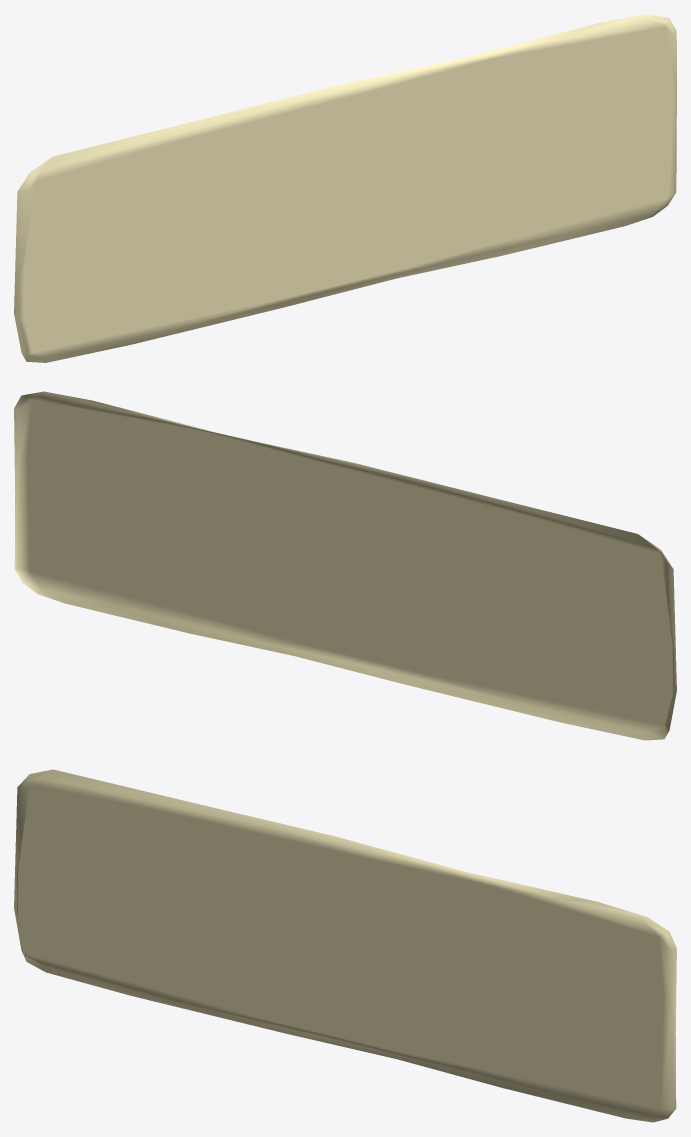
The model's file is ui_button_tab.glb.
3 views of the same model, one above another, from view 1: azimuth 30°, elevation 25°; view 2: azimuth 150°, elevation 25°; view 3: azimuth 330°, elevation 25° (orthographic).
Visible parts, largest first — view 1: Cube; view 2: Cube; view 3: Cube.
Part boxes in pixels (bbox=[...]): Cube: bbox=[14, 14, 676, 362]; Cube: bbox=[14, 391, 676, 740]; Cube: bbox=[14, 769, 676, 1122].
Bounding box in the file's own units: 2.01 × 0.6128 × 0.0168.
